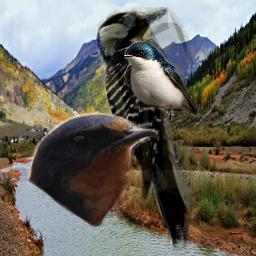Swallow: (26, 111, 161, 228), (124, 41, 199, 121)
Woodpecker: (94, 7, 215, 255)
